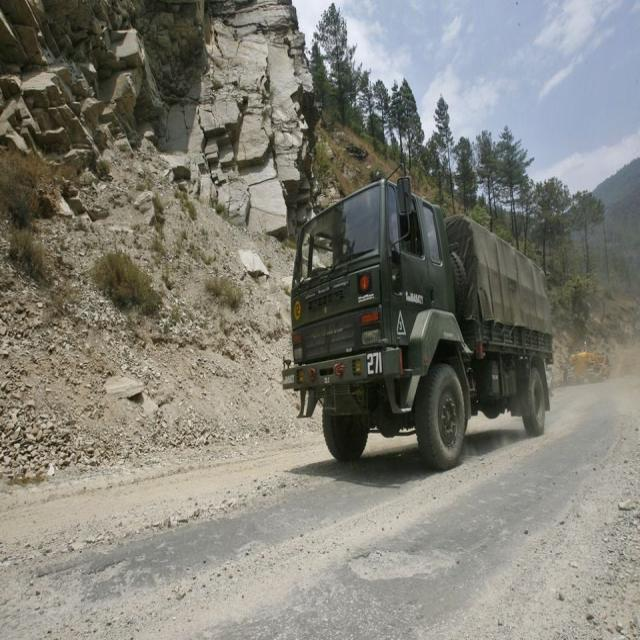truck: (281, 176, 552, 470)
